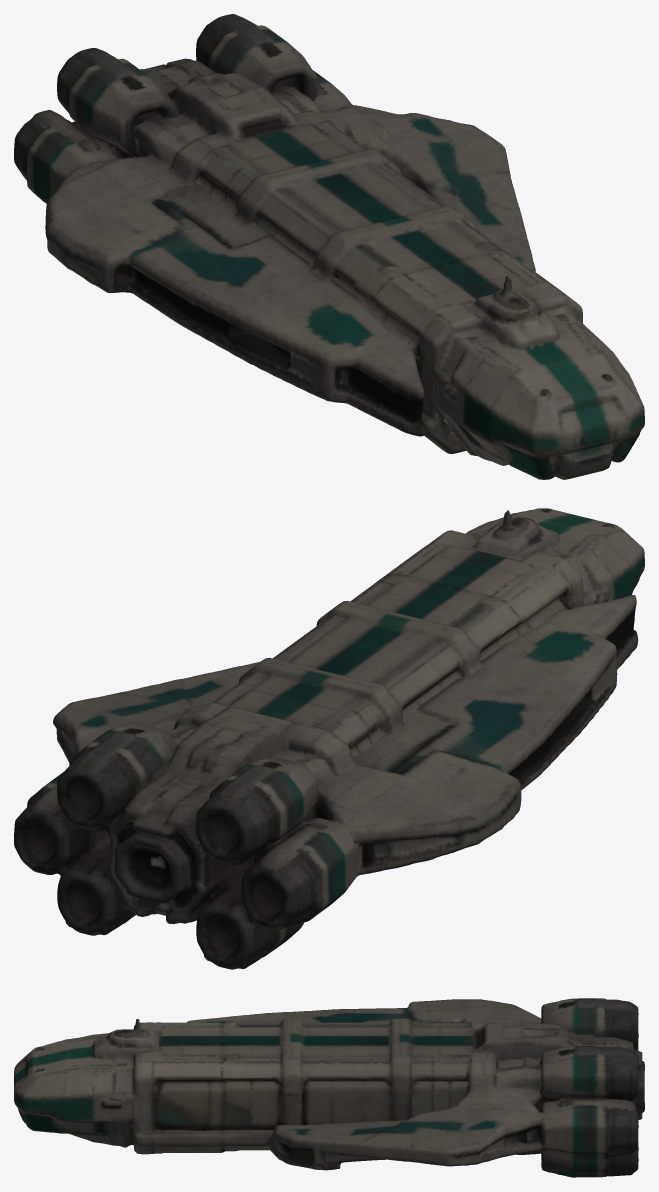
Rendered from ai-medium-ship-generated.glb.
The picture shows the model from 3 angles, top to bottom: view 1: azimuth 30°, elevation 25°; view 2: azimuth 150°, elevation 25°; view 3: azimuth 270°, elevation 25°; orthographic projection. The views are drawn at different scales.
Bounding box in the file's own units: 0.5663 × 0.2276 × 1.01.
